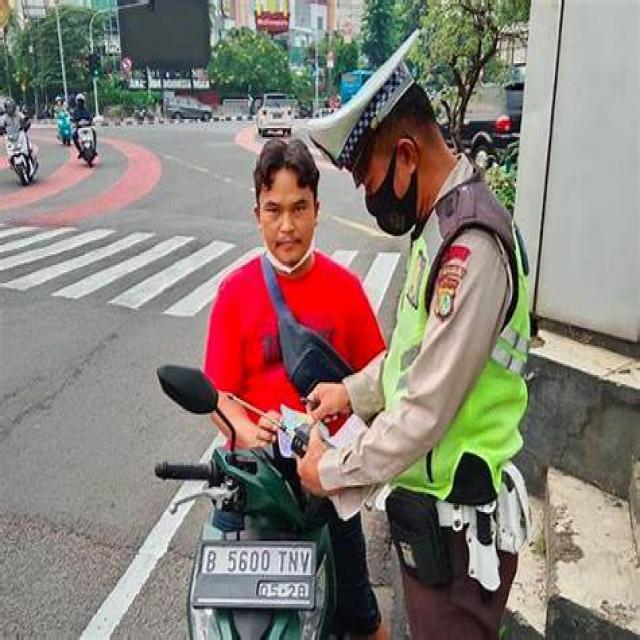Without Helmet: (248, 135, 327, 269)
